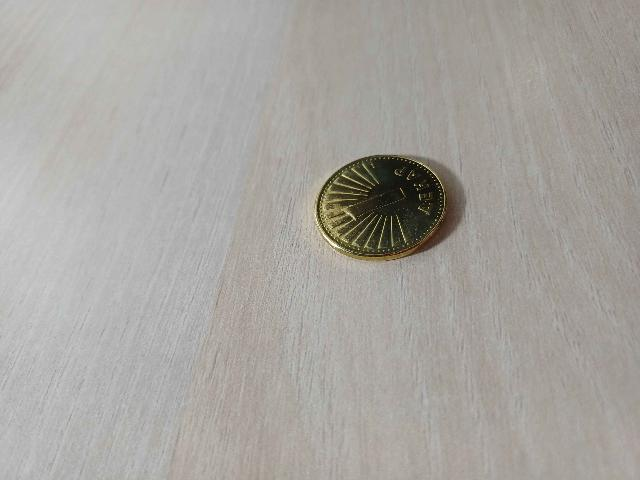coin: (315, 156, 446, 260)
